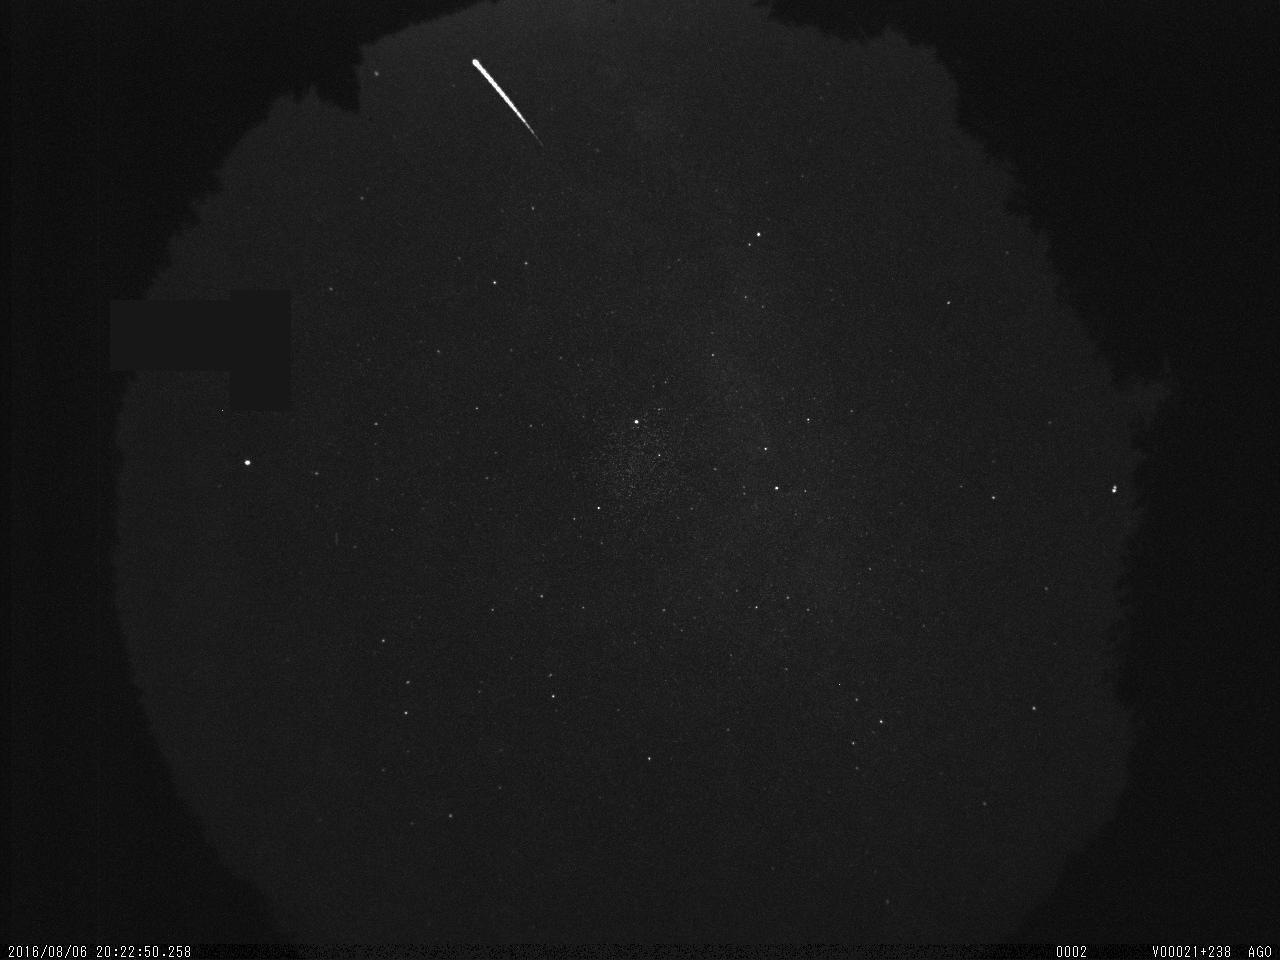Meteor: (470, 56, 547, 147)
